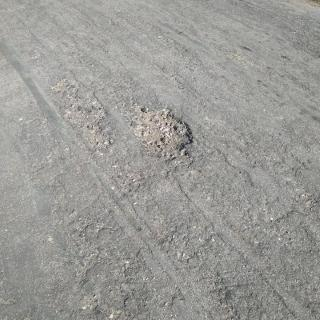pothole: (136, 106, 194, 156)
